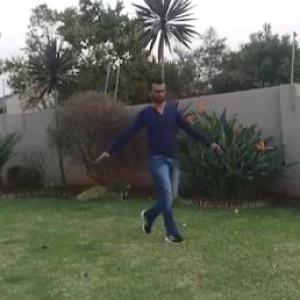land: (101, 80, 213, 222)
